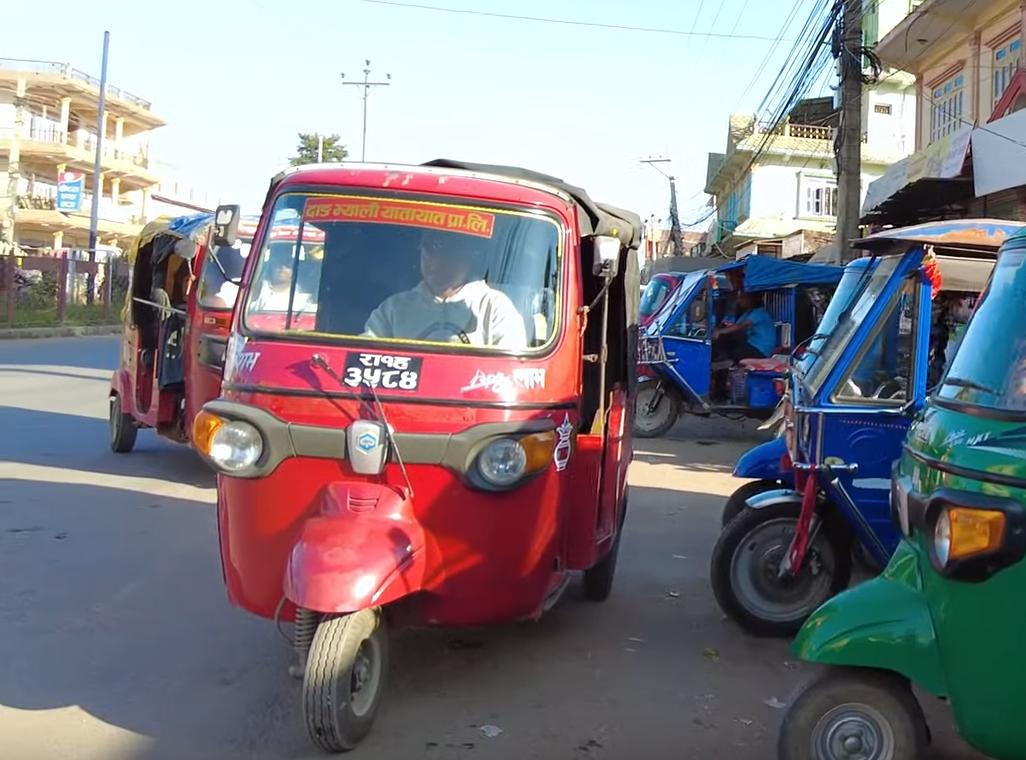auto_rickshaw: (200, 148, 633, 754), (782, 211, 1026, 760)
e-rickshaw: (631, 250, 827, 426)
